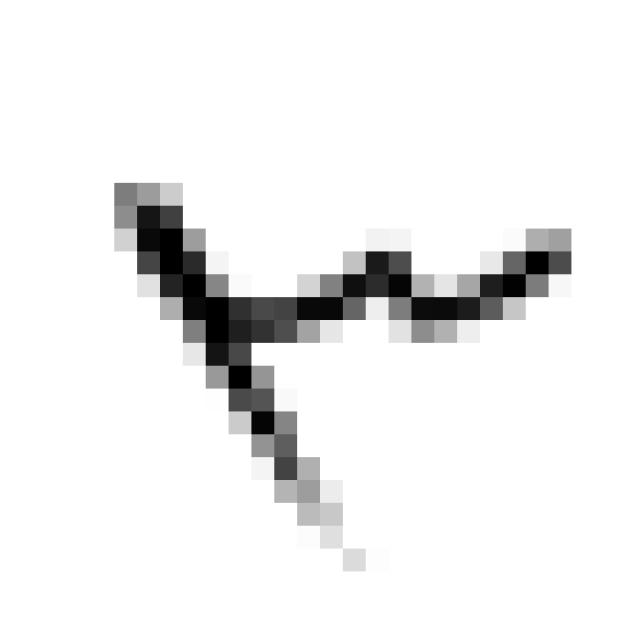3 -three-: (87, 153, 586, 593)
